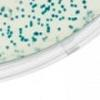Blue_green: (74, 9, 81, 16), (72, 28, 80, 34), (15, 5, 21, 12), (82, 4, 88, 11), (60, 4, 66, 11), (41, 37, 47, 43), (26, 13, 32, 19), (20, 7, 26, 13), (60, 14, 66, 20), (87, 9, 93, 15), (46, 25, 50, 33), (80, 0, 88, 4), (3, 13, 9, 18), (10, 38, 15, 44), (26, 43, 32, 48), (32, 38, 38, 43), (32, 31, 38, 36), (9, 16, 14, 22), (8, 8, 13, 14), (35, 21, 41, 26), (57, 26, 62, 32), (18, 0, 24, 5), (49, 17, 54, 23), (67, 16, 72, 22), (85, 12, 90, 18), (57, 9, 62, 15), (62, 8, 68, 13), (57, 0, 62, 6), (0, 7, 5, 12), (38, 31, 43, 36), (14, 14, 19, 19), (20, 14, 25, 19), (28, 23, 33, 28), (68, 25, 73, 30), (31, 9, 36, 14), (28, 1, 33, 6), (41, 3, 46, 8), (1, 32, 5, 38), (40, 22, 44, 28), (32, 3, 38, 7), (40, 11, 46, 15), (58, 16, 62, 22), (71, 16, 75, 22), (74, 16, 78, 22), (74, 3, 78, 9), (49, 2, 55, 6), (7, 27, 11, 32), (9, 30, 13, 35), (6, 45, 10, 50), (18, 30, 23, 34), (31, 35, 35, 40), (44, 35, 49, 39), (32, 15, 36, 20), (40, 5, 44, 10), (42, 8, 47, 12), (45, 18, 50, 22), (51, 13, 55, 18), (54, 14, 58, 19), (70, 3, 74, 8), (69, 0, 74, 4), (48, 0, 53, 4), (23, 39, 29, 42), (58, 0, 64, 3), (3, 22, 7, 26), (13, 42, 17, 46), (14, 49, 18, 53), (18, 34, 22, 38), (18, 27, 22, 31), (20, 38, 24, 42), (24, 25, 28, 29), (29, 20, 33, 24), (36, 17, 40, 21), (31, 5, 35, 9), (52, 8, 56, 12), (0, 27, 3, 32), (0, 52, 3, 57), (17, 49, 20, 54), (45, 7, 50, 10), (0, 12, 3, 16), (6, 32, 9, 36), (7, 25, 11, 28), (8, 34, 12, 37), (20, 36, 24, 39), (46, 22, 49, 26), (30, 0, 36, 2), (47, 5, 51, 8), (2, 6, 5, 9), (7, 36, 11, 38)
